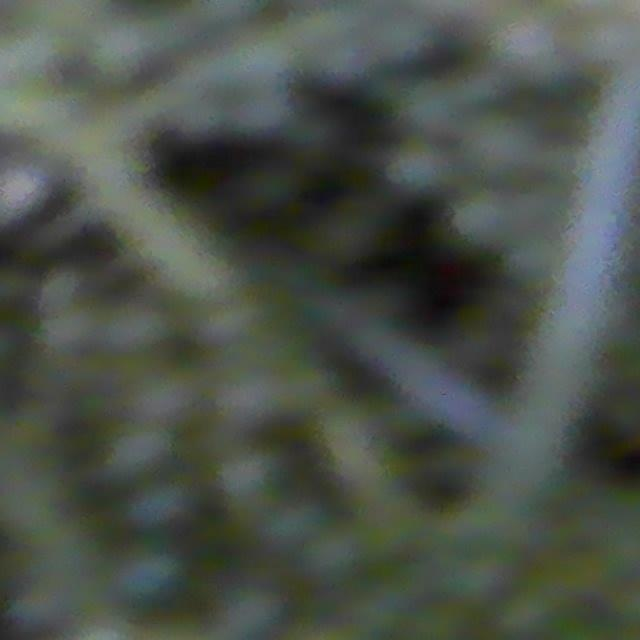SeaGrape: (489, 4, 563, 83), (452, 188, 513, 250), (387, 138, 449, 196)
